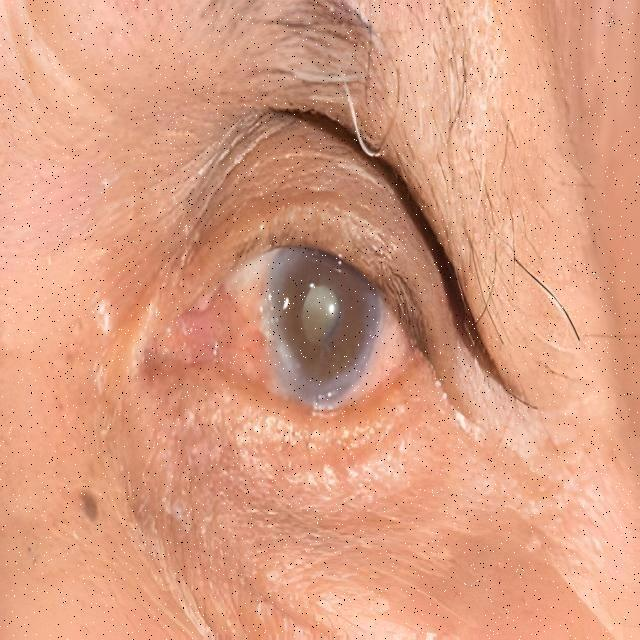Cataract: (262, 230, 385, 411)
